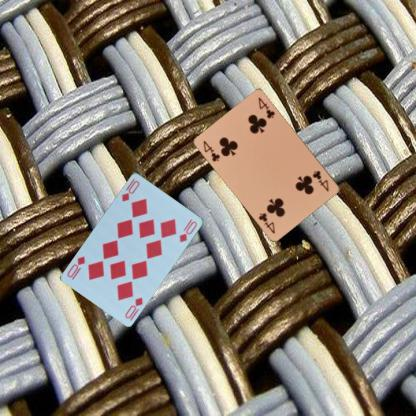10d: (122, 294, 144, 322), (119, 176, 141, 202)
4c: (201, 137, 221, 163), (310, 168, 330, 193)
